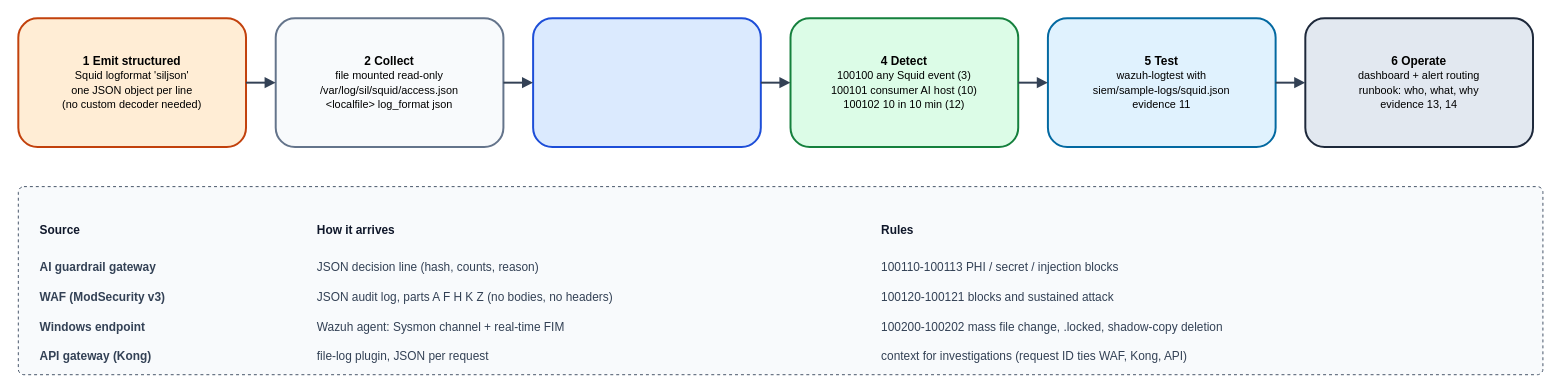
Some shapes in this 1560 by 392 pixel diagram are drawn without their labels. Each missing label, with the box of its shape:
3 Decode built-in JSON decoder fields: src_ip, url, action, status, dest_host: (532, 17, 761, 148)
Same pattern used for the other sources in this lab: (17, 186, 1543, 375)
